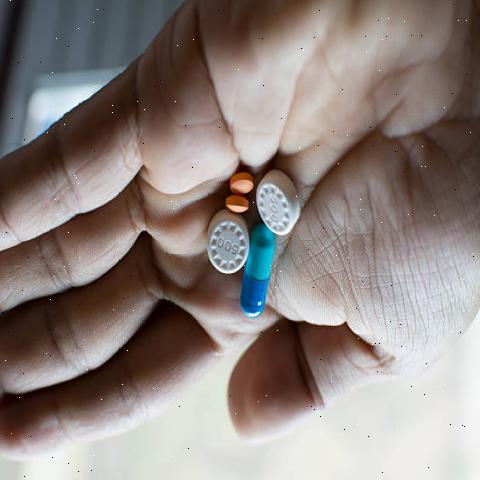Pill: (251, 166, 305, 241), (202, 208, 250, 286)
